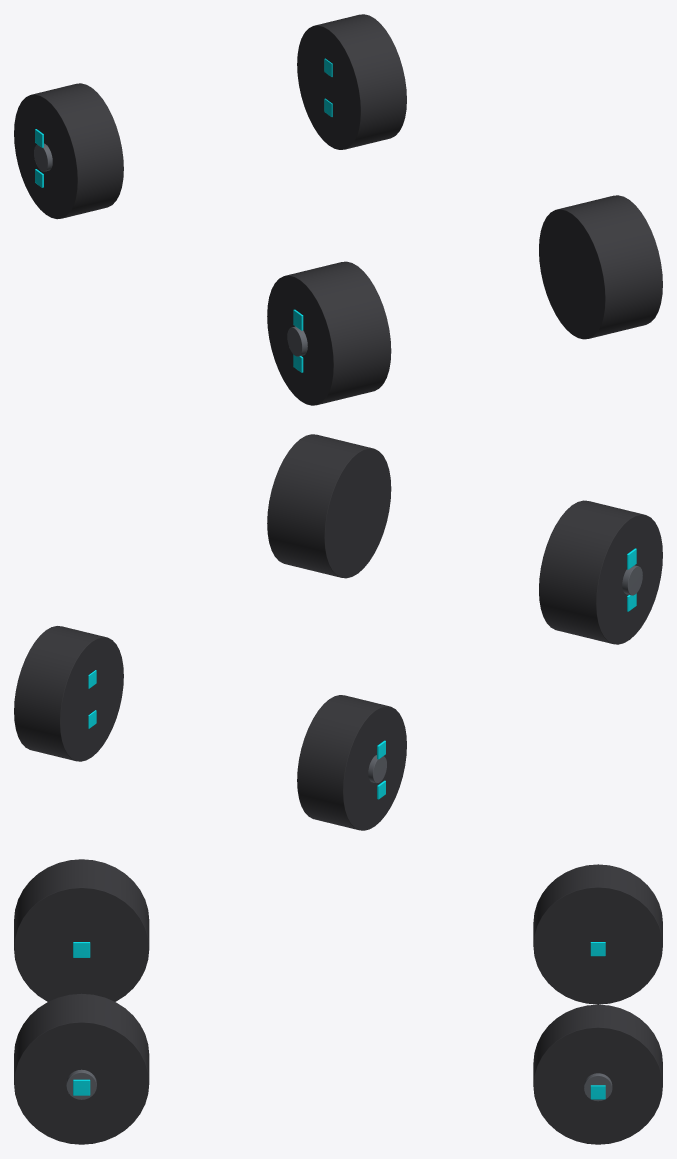
The model's file is wheels.glb.
3 renders of one model, top to bottom at view 1: azimuth 30°, elevation 25°; view 2: azimuth 150°, elevation 25°; view 3: azimuth 270°, elevation 25°, orthographic.
Visible parts, largest first — view 1: WHEEL_Tire_Rear_RL, WHEEL_Tire_Rear_RR, WHEEL_Tire_Front_FL, WHEEL_Tire_Front_FR; view 2: WHEEL_Tire_Rear_RL, WHEEL_Tire_Rear_RR, WHEEL_Tire_Front_FL, WHEEL_Tire_Front_FR; view 3: WHEEL_Tire_Rear_RL, WHEEL_Tire_Rear_RR, WHEEL_Tire_Front_FR, WHEEL_Tire_Front_FL, WHEEL_CenterLock_Rear_RL, WHEEL_CenterLock_Front_FL.
Part boxes in pixels (bbox=[...]): WHEEL_Tire_Rear_RL: bbox=[539, 195, 662, 339]; WHEEL_Tire_Rear_RR: bbox=[267, 261, 391, 405]; WHEEL_Tire_Front_FL: bbox=[297, 14, 406, 149]; WHEEL_Tire_Front_FR: bbox=[14, 83, 123, 219]; WHEEL_Tire_Rear_RL: bbox=[267, 434, 391, 578]; WHEEL_Tire_Rear_RR: bbox=[539, 500, 662, 644]; WHEEL_Tire_Front_FL: bbox=[14, 626, 123, 761]; WHEEL_Tire_Front_FR: bbox=[297, 695, 406, 830]; WHEEL_Tire_Rear_RL: bbox=[14, 993, 149, 1144]; WHEEL_Tire_Rear_RR: bbox=[14, 859, 149, 1001]; WHEEL_Tire_Front_FR: bbox=[533, 864, 662, 1004]; WHEEL_Tire_Front_FL: bbox=[533, 1004, 662, 1144]; WHEEL_CenterLock_Rear_RL: bbox=[66, 1069, 96, 1099]; WHEEL_CenterLock_Front_FL: bbox=[584, 1073, 612, 1101].
Bounding box in the file's own units: 2.15 × 0.71 × 3.41.
